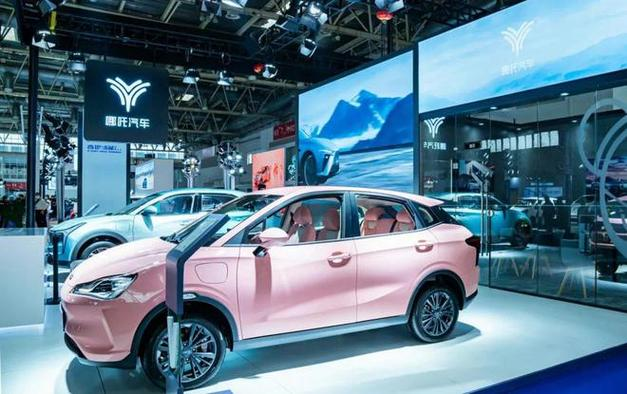汽车: (48, 177, 492, 392)
